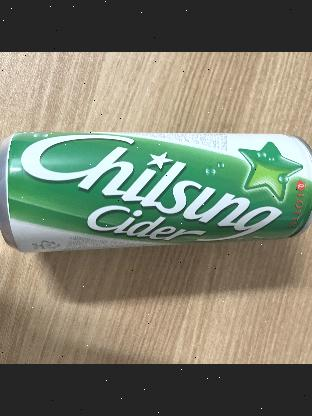Can: (0, 132, 312, 251)
